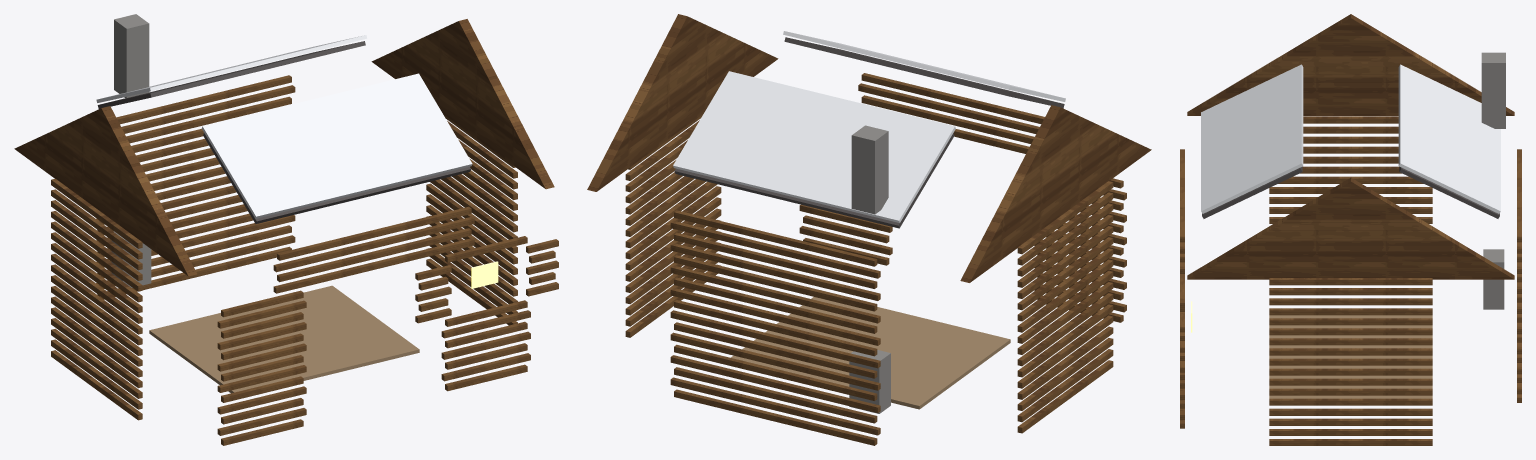
File: cabin.glb
The picture shows the model from 3 angles, left to right: view 1: azimuth 30°, elevation 25°; view 2: azimuth 150°, elevation 25°; view 3: azimuth 270°, elevation 25°; orthographic projection. The views are drawn at different scales.
Parts seen in each view (by area): view 1: RoofSnow.001, Floor, Gable.001, Gable, Chimney, LogFB.044, LogFB.048, LogFB.050, LogFB.046, RoofSlab, RoofSlab.001, LogFB.051 (+67 smaller); view 2: RoofSnow, Gable.001, Gable, Floor, Chimney, LogFB.005, LogFB.040, LogFB.011, LogFB.024, LogFB.045, LogFB.017, LogFB.032 (+52 smaller); view 3: Gable, Gable.001, RoofSnow.001, RoofSnow, Floor, Chimney, LogS.004, LogS.006, LogS.008, LogS.010, LogS.012, LogS.014 (+26 smaller).
Boxes of the visible parts, bbox=[...] form: RoofSnow.001: bbox=[202, 73, 472, 218]; Floor: bbox=[149, 285, 419, 393]; Gable.001: bbox=[14, 106, 196, 276]; Gable: bbox=[371, 19, 554, 189]; Chimney: bbox=[114, 14, 149, 98]; LogFB.044: bbox=[273, 238, 474, 293]; LogFB.048: bbox=[273, 216, 474, 272]; LogFB.050: bbox=[277, 206, 471, 260]; LogFB.046: bbox=[277, 228, 471, 282]; RoofSlab: bbox=[97, 41, 365, 108]; RoofSlab.001: bbox=[203, 133, 470, 223]; LogFB.051: bbox=[116, 75, 291, 124]; RoofSnow: bbox=[673, 71, 955, 222]; Gable.001: bbox=[960, 105, 1151, 282]; Gable: bbox=[587, 14, 778, 191]; Floor: bbox=[731, 297, 1010, 409]; Chimney: bbox=[851, 125, 888, 214]; LogFB.005: bbox=[670, 377, 880, 435]; LogFB.040: bbox=[670, 265, 880, 323]; LogFB.011: bbox=[670, 355, 880, 412]; LogFB.024: bbox=[670, 310, 880, 368]; LogFB.045: bbox=[670, 243, 880, 300]; LogFB.017: bbox=[670, 332, 880, 390]; LogFB.032: bbox=[670, 288, 880, 345]; Gable: bbox=[1187, 177, 1514, 279]; Gable.001: bbox=[1187, 14, 1514, 115]; RoofSnow.001: bbox=[1201, 64, 1303, 213]; RoofSnow: bbox=[1398, 64, 1500, 213]; Floor: bbox=[1269, 315, 1432, 398]; Chimney: bbox=[1481, 52, 1505, 128]; LogS.004: bbox=[1269, 418, 1432, 425]; LogS.006: bbox=[1269, 408, 1432, 415]; LogS.008: bbox=[1269, 398, 1432, 405]; LogS.010: bbox=[1269, 388, 1432, 395]; LogS.012: bbox=[1269, 378, 1432, 385]; LogS.014: bbox=[1269, 368, 1432, 375].
Bounding box in the file's own units: 5.93 × 4.25 × 4.93.
6 materials, 1 textured.
